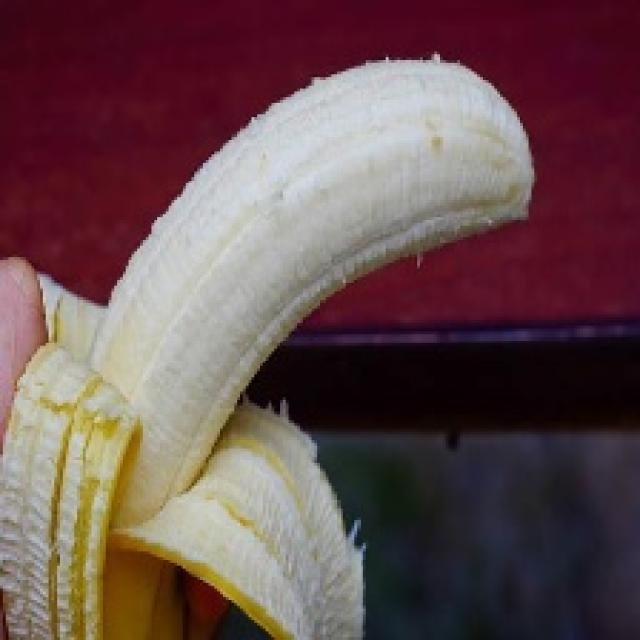Banana: (0, 51, 534, 637)
